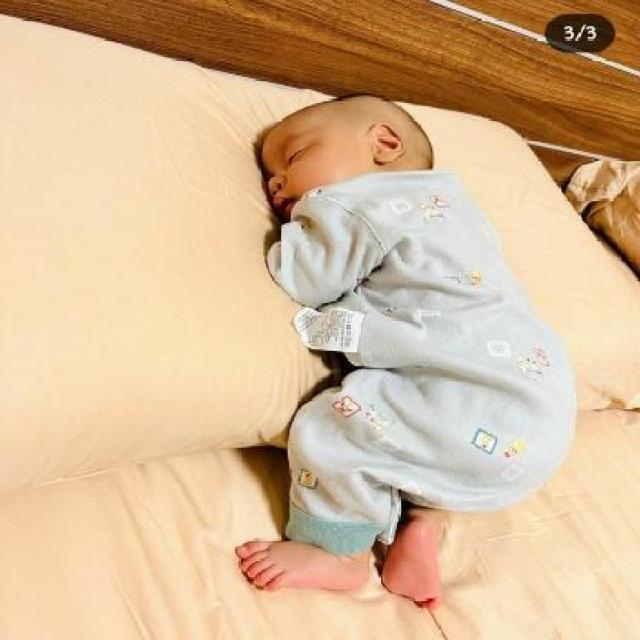baby: (234, 90, 577, 606)
